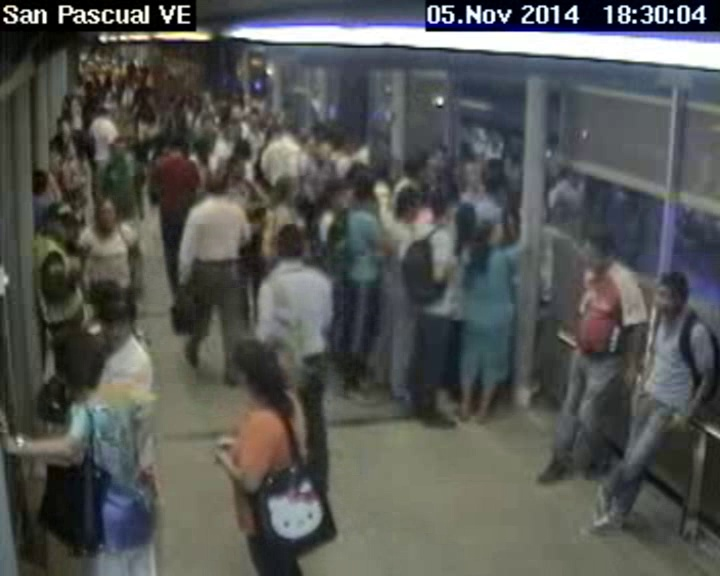person: (229, 341, 287, 401), (56, 339, 104, 397), (99, 296, 139, 350), (654, 268, 693, 322), (585, 226, 617, 272), (394, 144, 433, 179), (322, 176, 353, 214), (275, 222, 302, 265), (425, 185, 453, 225), (395, 182, 421, 223), (452, 197, 478, 237), (45, 205, 76, 237), (351, 174, 378, 208), (93, 199, 117, 233), (475, 219, 498, 250), (205, 172, 227, 198), (225, 153, 247, 179), (30, 165, 48, 195), (482, 171, 498, 202), (312, 140, 333, 163), (167, 136, 184, 158), (112, 135, 129, 157), (265, 125, 281, 144), (198, 115, 217, 129), (224, 123, 238, 142), (55, 117, 69, 133), (62, 141, 74, 159), (98, 101, 110, 118), (248, 113, 259, 131)
